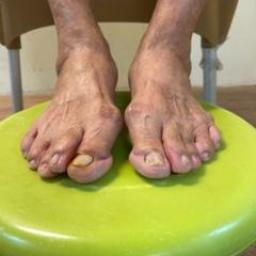Front View -Both Feet-: (11, 11, 243, 195)
